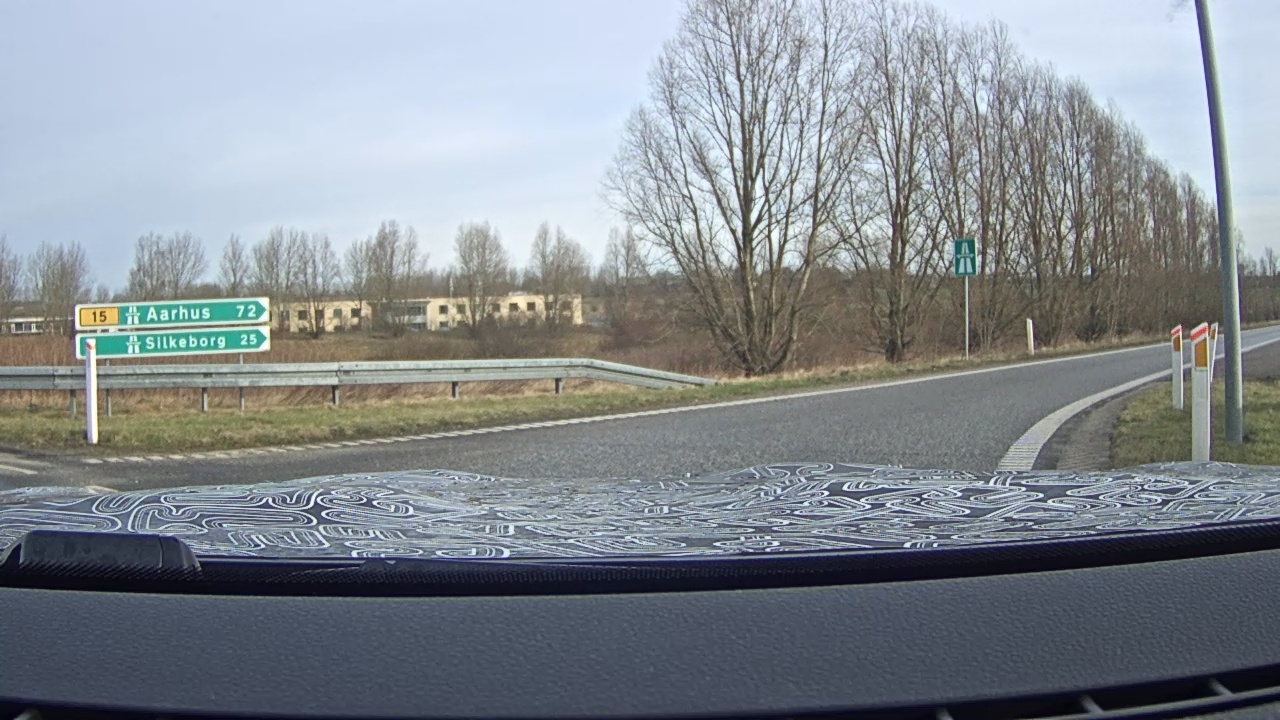Motorway_Begin: (953, 238, 977, 277)
